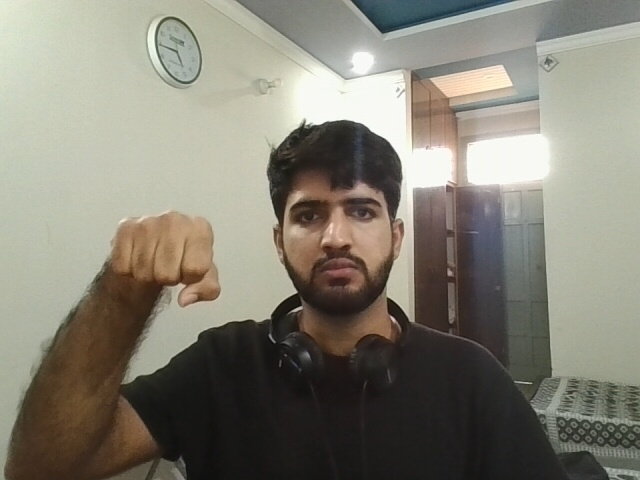Yes: (88, 197, 232, 311)
